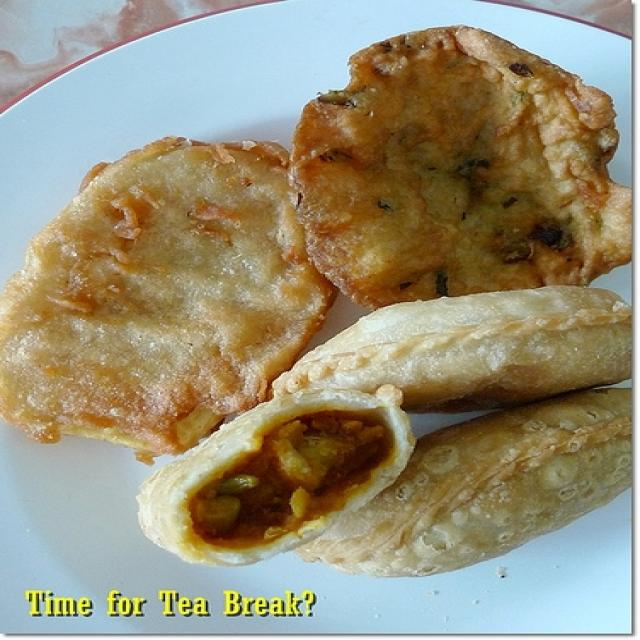炸货点心: (14, 26, 623, 586)
